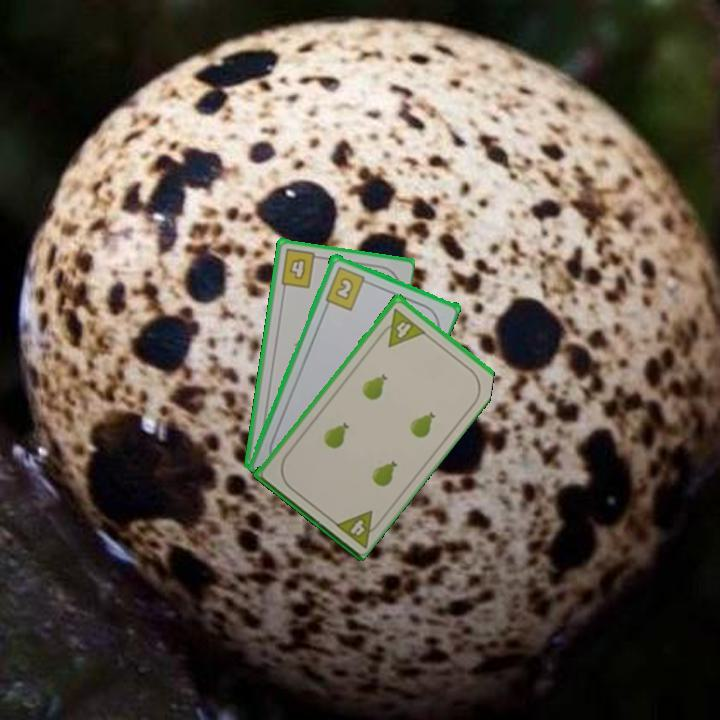2b: (321, 263, 373, 313)
4b: (277, 245, 324, 291)
4p: (330, 506, 386, 550), (375, 304, 427, 349)
